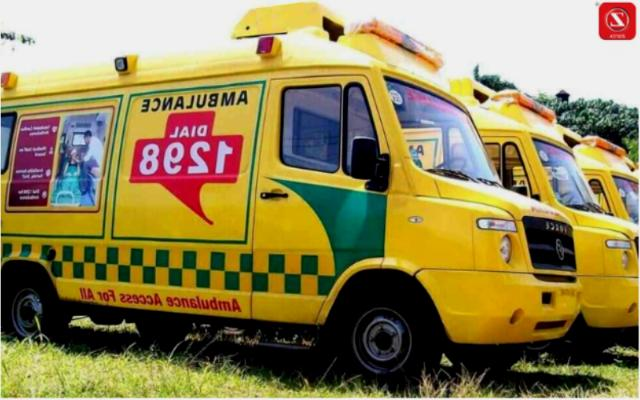ambulance: (1, 2, 582, 376), (450, 78, 640, 354), (565, 128, 638, 223)
